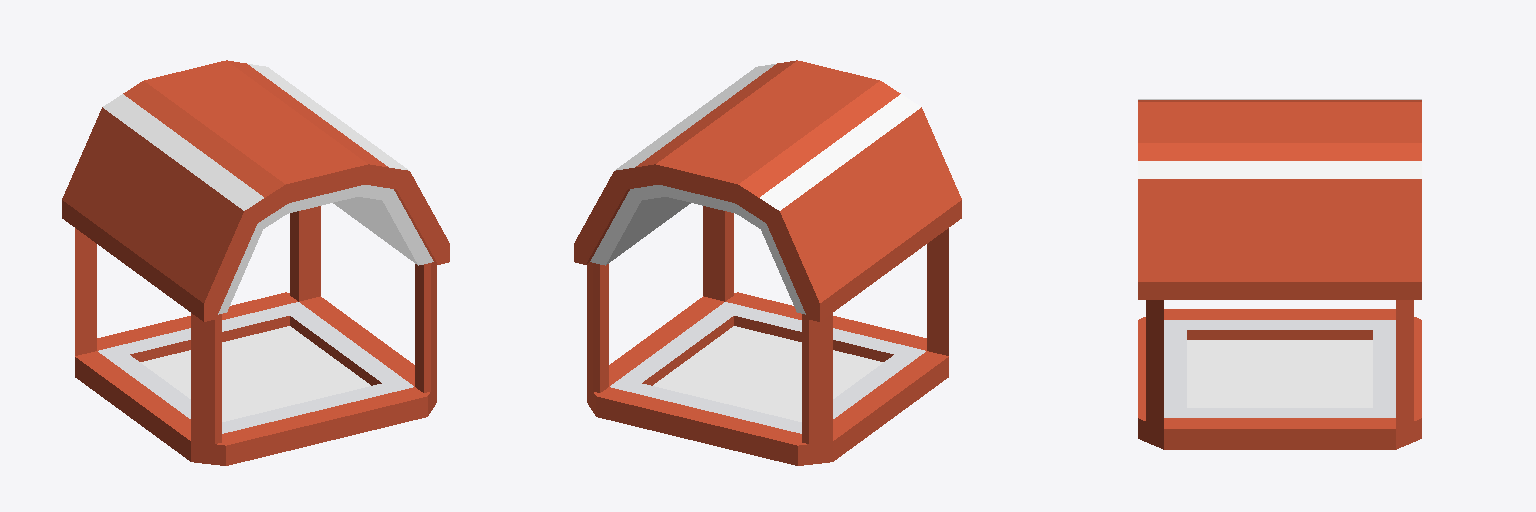
File: buildingOpen.obj
3 renders of one model, left to right at view 1: azimuth 30°, elevation 25°; view 2: azimuth 150°, elevation 25°; view 3: azimuth 270°, elevation 25°, orthographic.
Parts seen in each view (by area): view 1: buildingOpen; view 2: buildingOpen; view 3: buildingOpen.
Part boxes in pixels (bbox=[...]): buildingOpen: bbox=[62, 60, 449, 465]; buildingOpen: bbox=[574, 60, 961, 465]; buildingOpen: bbox=[1138, 99, 1421, 449].
Bounding box in the file's own units: 10 × 10.37 × 10.